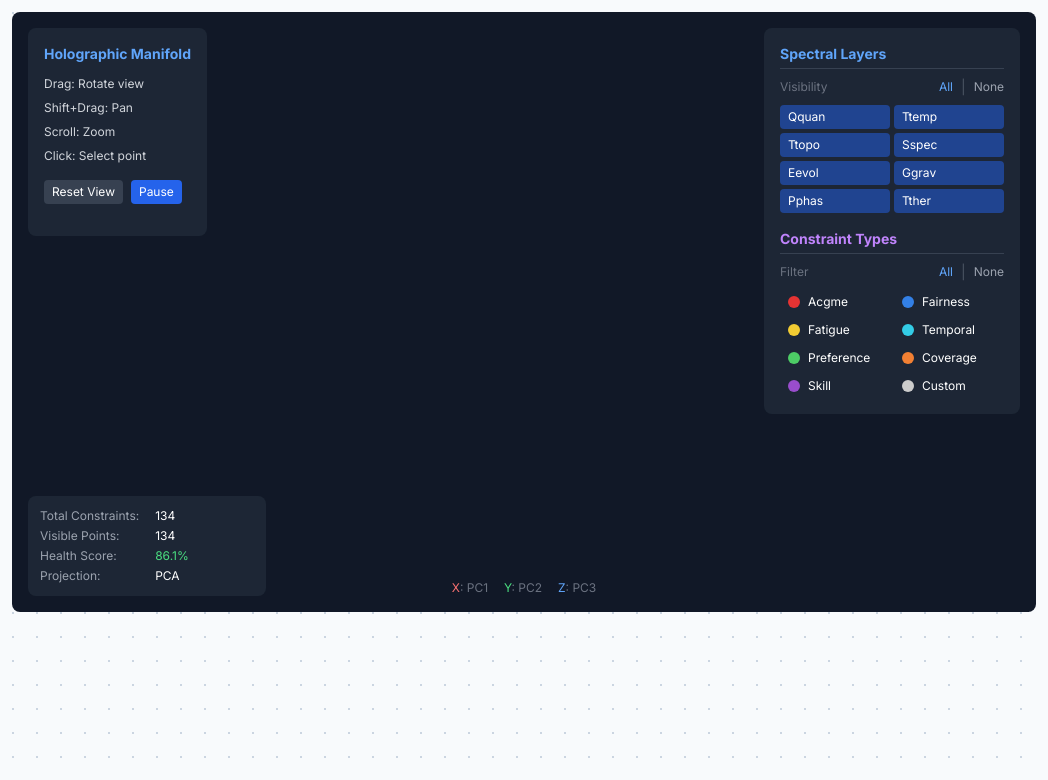
Test: HolographicManifold › toggles animation on button click
Click the button "Pause": (156, 192) [131,180,182,204]
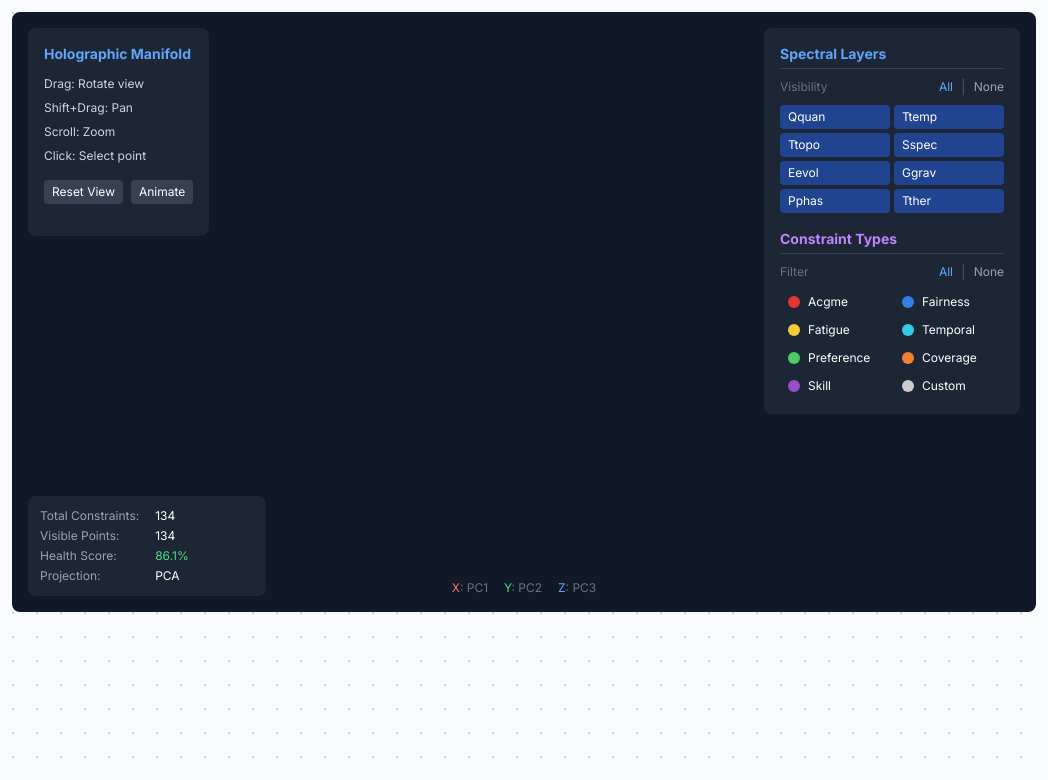
Now the button "Animate" is shown, box [131,180,193,204]
